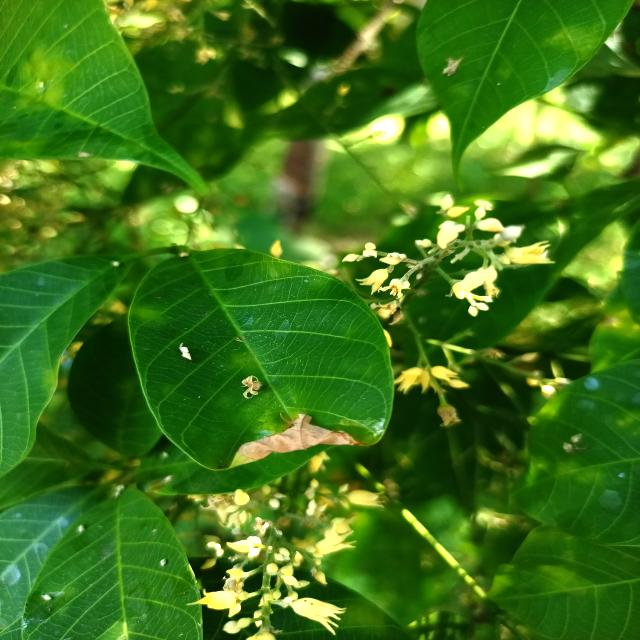Leaf-Blight: (229, 413, 360, 463)
